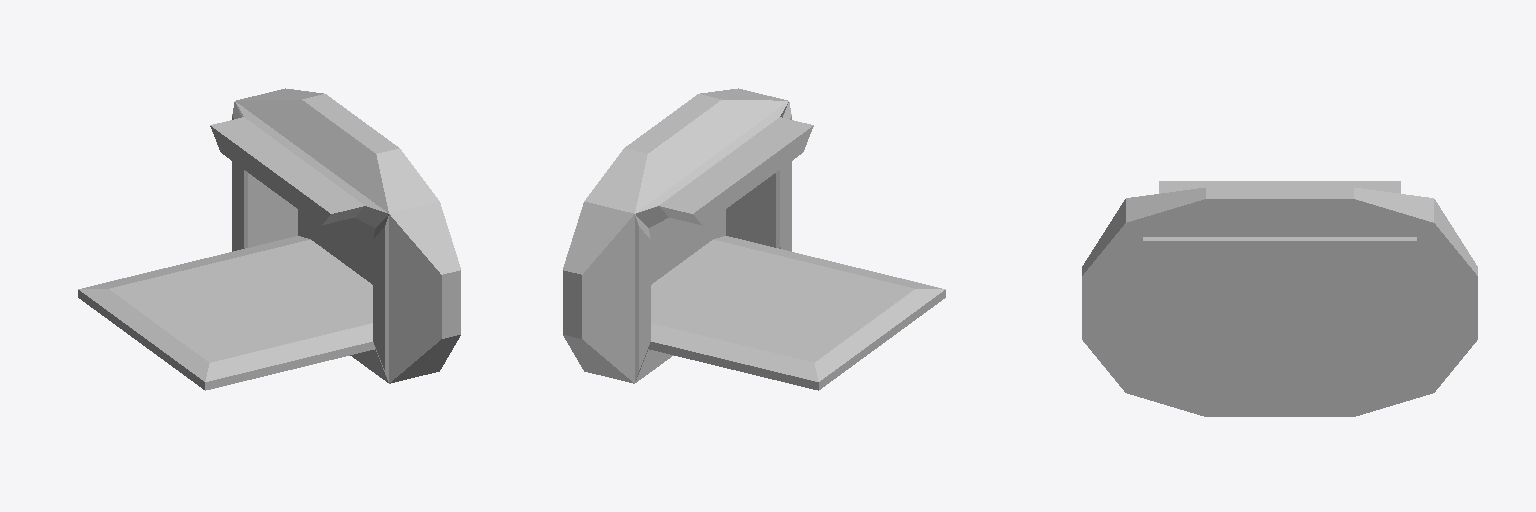
The model's file is Gate.obj.
3 renders of one model, left to right at view 1: azimuth 30°, elevation 25°; view 2: azimuth 150°, elevation 25°; view 3: azimuth 270°, elevation 25°, orthographic.
Parts seen in each view (by area): view 1: Gate, Gate_inside; view 2: Gate, Gate_inside; view 3: Gate, Gate_inside.
Boxes of the visible parts, x1,y1,x2,y2 form: Gate: [78, 88, 460, 390]; Gate_inside: [298, 210, 375, 284]; Gate: [563, 88, 945, 390]; Gate_inside: [648, 210, 725, 284]; Gate: [1082, 181, 1477, 416]; Gate_inside: [1143, 237, 1416, 369].
Bounding box in the file's own units: 25.86 × 23.56 × 38.71.